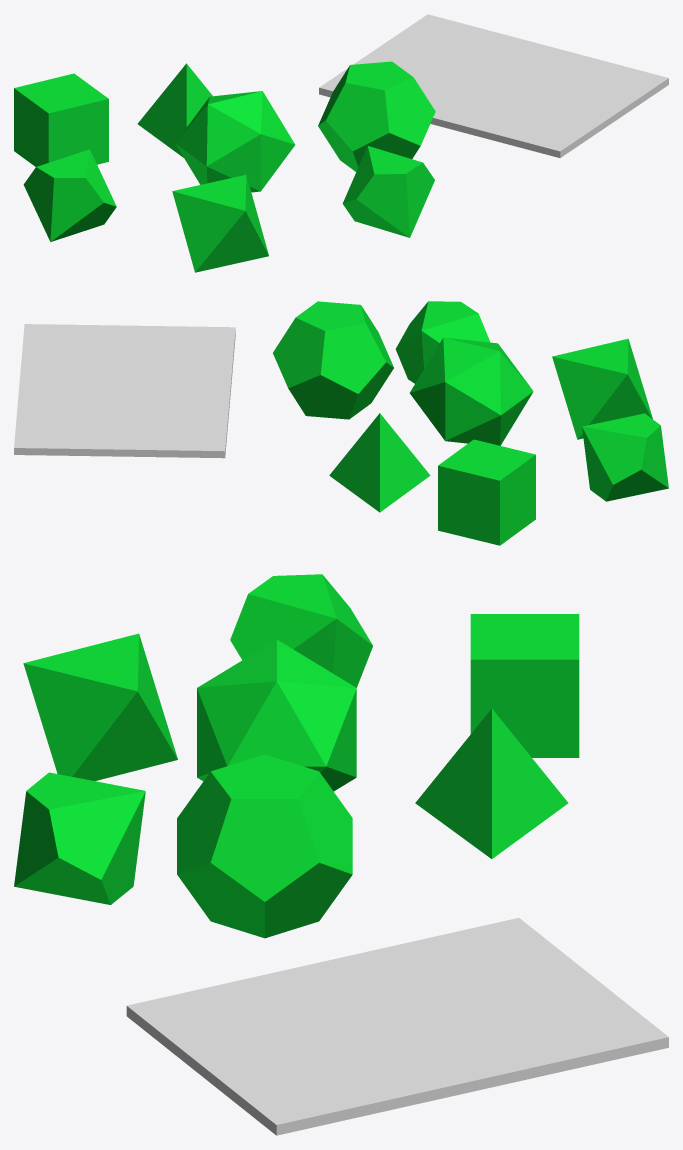
Rendered from dice_green.glb.
The picture shows the model from 3 angles, top to bottom: view 1: azimuth 30°, elevation 25°; view 2: azimuth 150°, elevation 25°; view 3: azimuth 270°, elevation 25°; orthographic projection. The views are drawn at different scales.
Parts seen in each view (by area): view 1: Cube; view 2: Cube; view 3: Cube.
Part boxes in pixels (left/top/right/bottom): Cube: left=14, top=14, right=668, bottom=272; Cube: left=14, top=301, right=668, bottom=545; Cube: left=14, top=574, right=668, bottom=1135.
Size of the model in its own units: 11.92 by 1.85 by 6.97.
